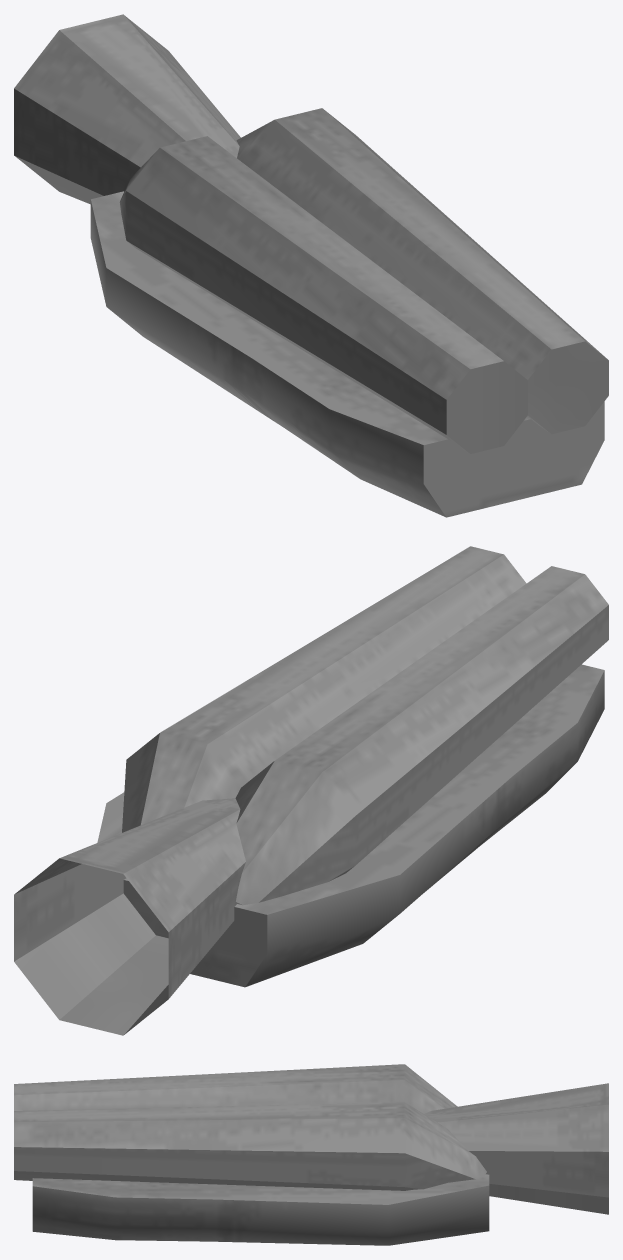
File: SuperShotgun.fbx
3 views of the same model, one above another, from view 1: azimuth 30°, elevation 25°; view 2: azimuth 150°, elevation 25°; view 3: azimuth 270°, elevation 25° (orthographic). The views are drawn at different scales.
Parts seen in each view (by area): view 1: barrel, wood; view 2: barrel, wood; view 3: barrel, wood.
Boxes of the visible parts, x1,y1,x2,y2 form: barrel: [14, 14, 608, 453]; wood: [90, 191, 604, 517]; barrel: [14, 546, 608, 1035]; wood: [97, 664, 604, 987]; barrel: [14, 1064, 608, 1214]; wood: [32, 1174, 489, 1245].
Bounding box in the file's own units: 23.65 × 13.34 × 60.89.
Materials: 1 (1 with a texture image).
